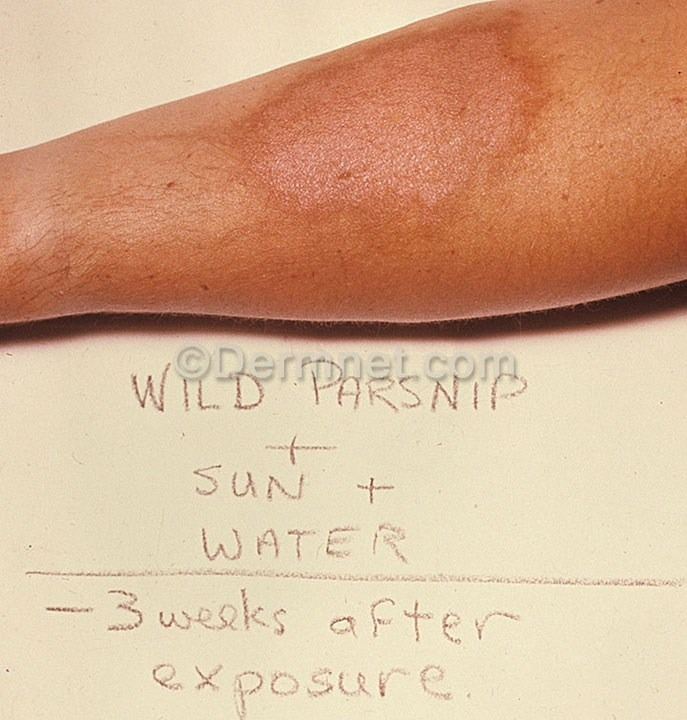Melasma: (346, 0, 613, 52)
